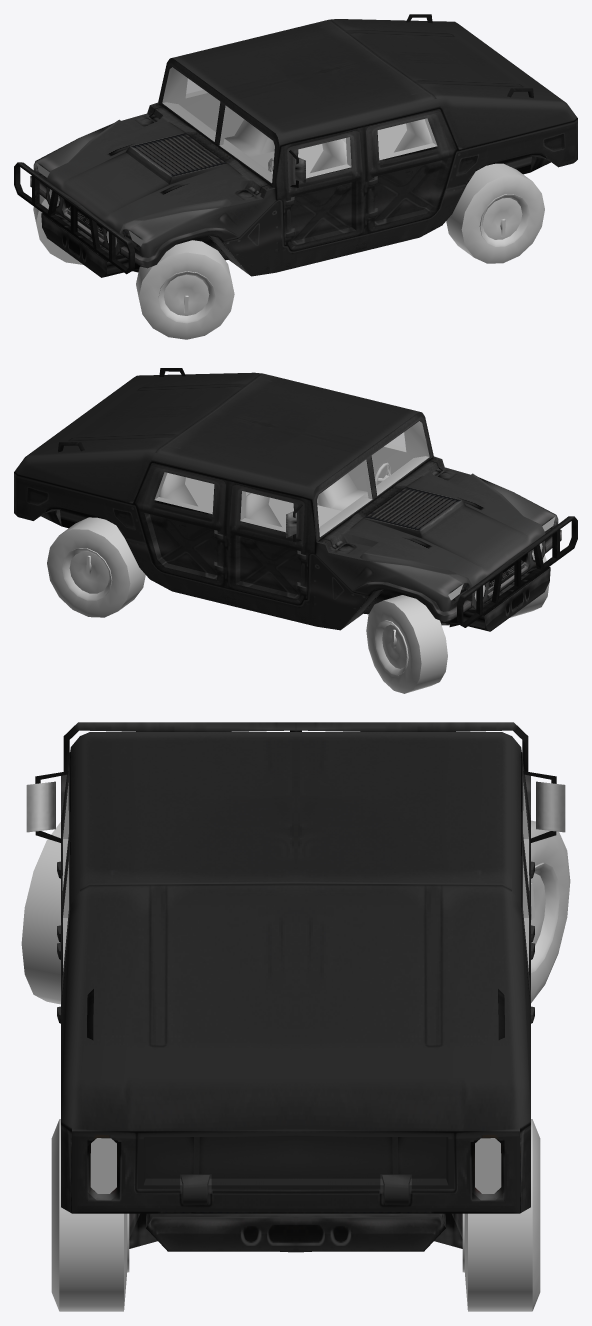
Rendered from Slatermk193.fbx.
3 renders of one model, top to bottom at view 1: azimuth 30°, elevation 25°; view 2: azimuth 150°, elevation 25°; view 3: azimuth 270°, elevation 25°, orthographic. The views are drawn at different scales.
Visible parts, largest first — view 1: body, Hood, Glass, iNTERIOR, Wheel_FL, Wheel_RL, Pushbar_Front, Bottom, Wheel_FR; view 2: body, Hood, Glass, iNTERIOR, Wheel_RR, Wheel_FR, Pushbar_Front, Bottom; view 3: body, Trunkdoor, Wheel_RL, Wheel_RR, Wheel_FL, Wheel_FR, Pushbar_Front, Sidemirrors, Bottom, Stoplight_glass, iNTERIOR, Suspension_Rear (+2 smaller).
Boxes of the visible parts, box(x1,y1,x2,y2) form: body: box(41, 19, 577, 277); Hood: box(30, 102, 275, 268); Glass: box(162, 67, 436, 182); iNTERIOR: box(162, 67, 437, 182); Wheel_FL: box(136, 240, 234, 339); Wheel_RL: box(446, 163, 544, 263); Pushbar_Front: box(14, 162, 134, 274); Bottom: box(41, 14, 555, 277); Wheel_FR: box(33, 194, 83, 264); body: box(14, 372, 550, 631); Hood: box(316, 456, 561, 621); Glass: box(155, 421, 429, 536); iNTERIOR: box(154, 421, 429, 536); Wheel_RR: box(47, 517, 145, 617); Wheel_FR: box(366, 595, 447, 693); Pushbar_Front: box(457, 516, 577, 627); Bottom: box(37, 368, 550, 631); body: box(57, 732, 534, 1251); Trunkdoor: box(136, 1131, 455, 1205); Wheel_RL: box(51, 1119, 129, 1311); Wheel_RR: box(462, 1119, 540, 1311); Wheel_FL: box(21, 822, 60, 1004); Wheel_FR: box(531, 820, 570, 1002); Pushbar_Front: box(63, 722, 528, 771); Sidemirrors: box(26, 771, 565, 843); Bottom: box(87, 989, 504, 1252); Stoplight_glass: box(90, 1163, 501, 1193); iNTERIOR: box(62, 783, 529, 970); Suspension_Rear: box(129, 1213, 462, 1248).
Size of the model in its own units: 4799 by 1793 by 2506.
